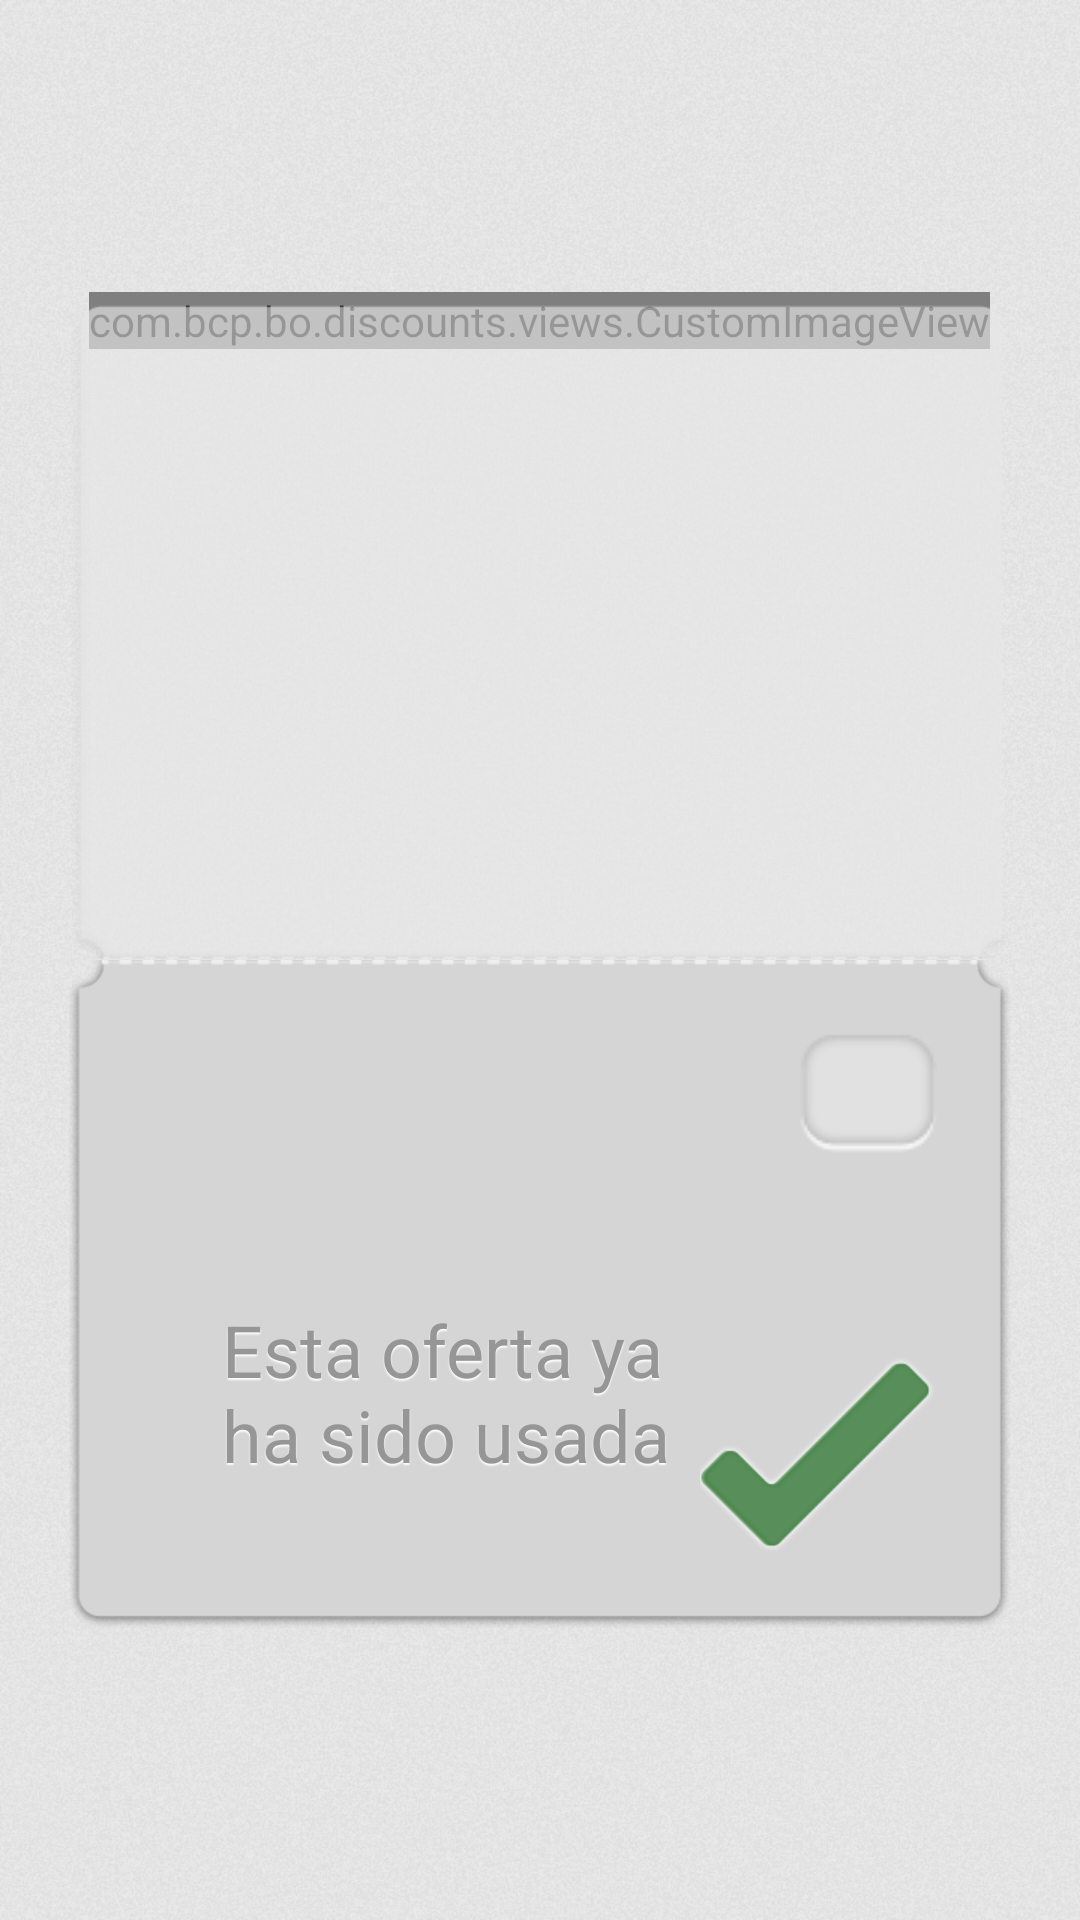

Named icons in this screenshot (1080w x 1920h) and their centers, [x,y]:
dsc list check: [815,1454]
